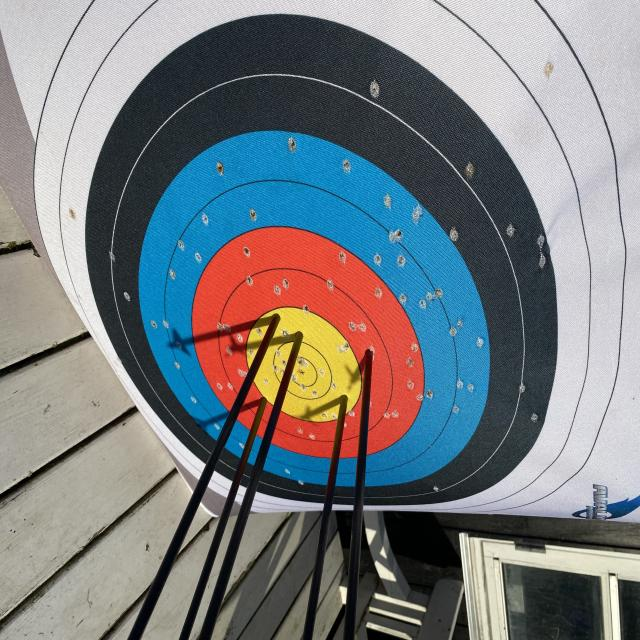Arrow_Red: (356, 338, 386, 373), (256, 381, 269, 418)
Arrow_Yellow: (322, 378, 364, 418), (264, 303, 284, 345), (291, 321, 309, 354)
